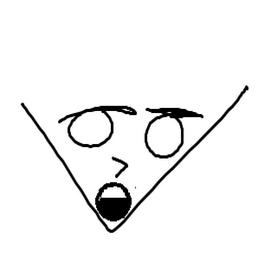empty_eye: (65, 106, 120, 151), (141, 112, 187, 163)
open_mouth: (90, 179, 134, 226)
pointy_nose: (106, 152, 130, 179)
